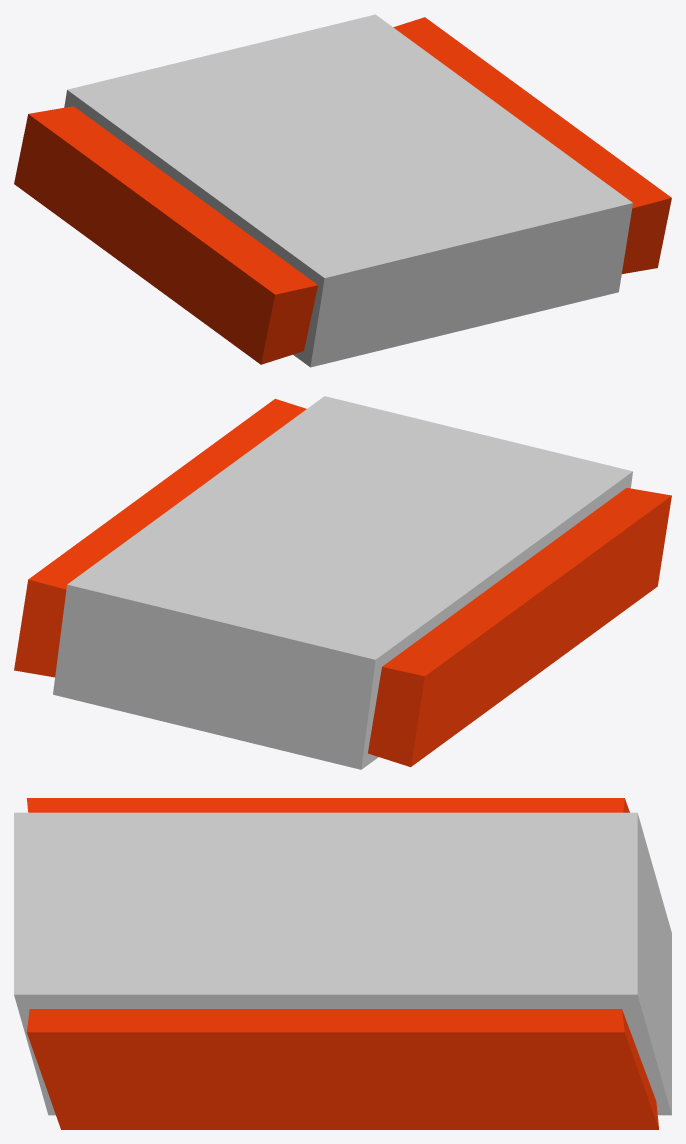
The model's file is Platform_5.FBX.
3 renders of one model, top to bottom at view 1: azimuth 30°, elevation 25°; view 2: azimuth 150°, elevation 25°; view 3: azimuth 270°, elevation 25°, orthographic. The views are drawn at different scales.
Visible parts, largest first — view 1: Box005; view 2: Box005; view 3: Box005.
Part boxes in pixels (bbox=[...]): Box005: bbox=[14, 14, 671, 367]; Box005: bbox=[14, 396, 671, 769]; Box005: bbox=[14, 798, 671, 1129].
Size of the model in its own units: 71.18 by 17.09 by 84.43.
